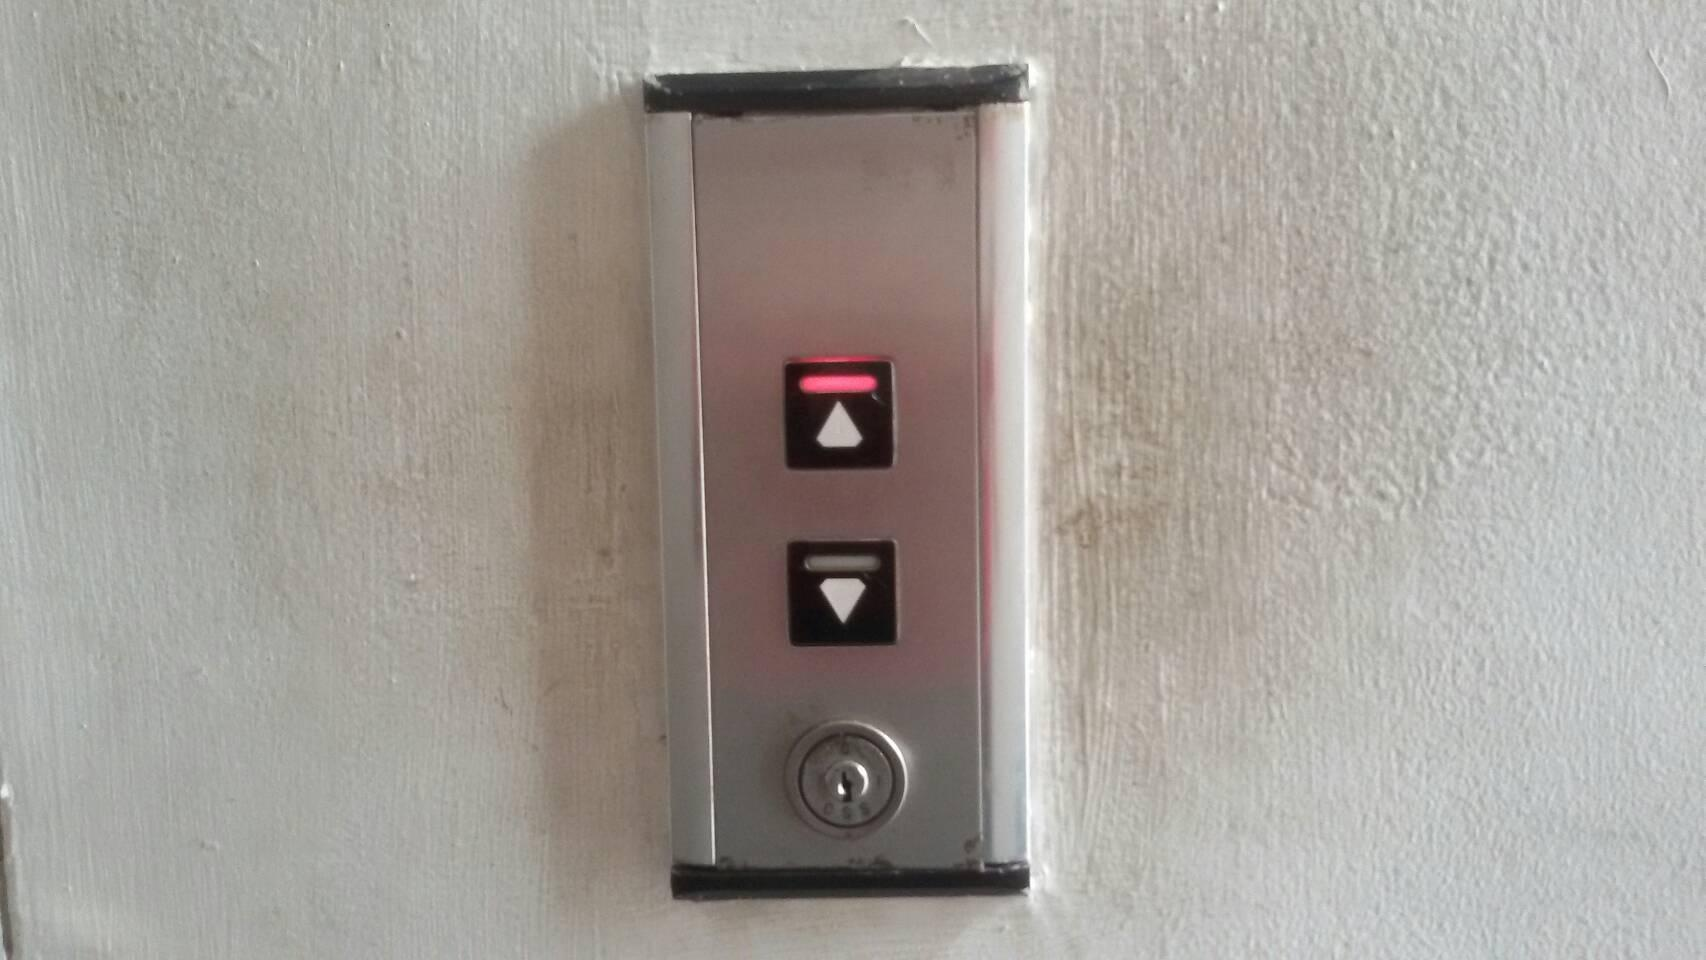down: (780, 526, 902, 660)
keyhole: (783, 716, 910, 845)
up: (776, 347, 898, 481)
